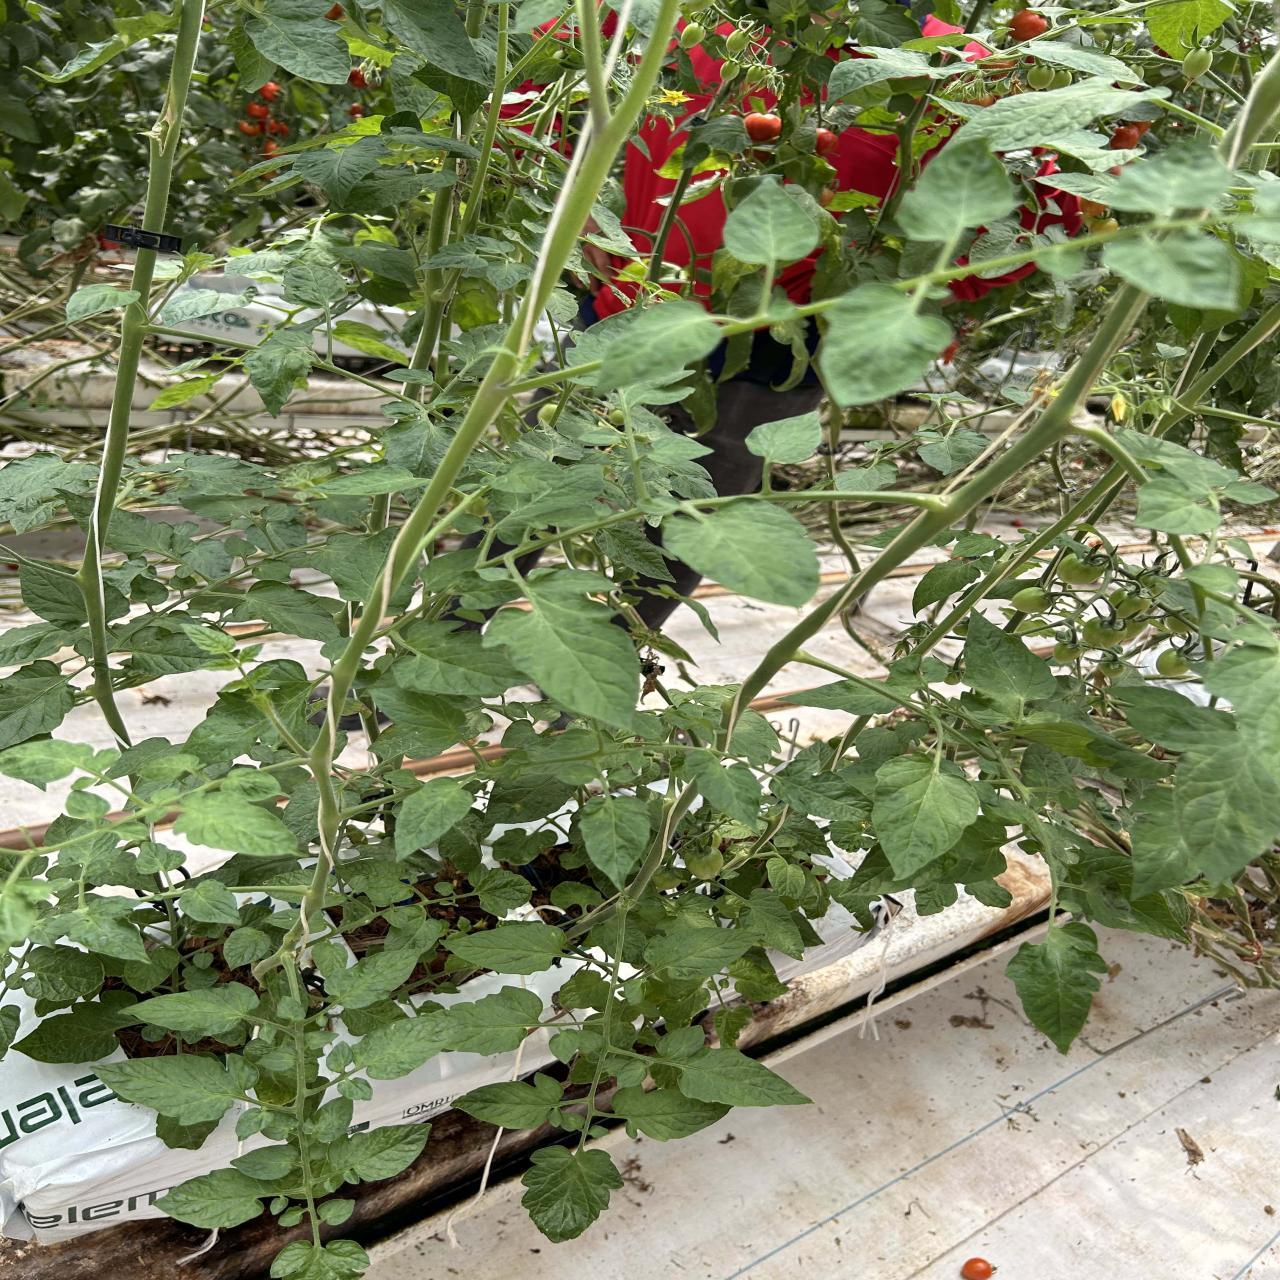Hoja: (1114, 627, 1280, 890), (482, 570, 640, 726), (661, 497, 819, 607), (818, 282, 952, 407), (1119, 430, 1276, 535), (946, 79, 1158, 151), (872, 751, 980, 879), (896, 134, 1020, 241), (1006, 921, 1108, 1053), (581, 300, 721, 392), (91, 1055, 258, 1124), (1103, 229, 1240, 311), (522, 1145, 624, 1242), (1107, 142, 1233, 215), (964, 606, 1057, 701), (723, 176, 819, 268), (424, 986, 542, 1057), (1129, 784, 1199, 903), (828, 46, 978, 101), (173, 791, 299, 856), (321, 1124, 430, 1194), (45, 896, 155, 965), (352, 1016, 471, 1080), (452, 1073, 584, 1130), (154, 1167, 279, 1227), (679, 1048, 808, 1105), (122, 982, 259, 1035), (572, 795, 651, 885), (611, 1085, 731, 1141), (771, 758, 874, 822), (394, 777, 472, 859), (443, 921, 565, 974), (11, 946, 104, 1014), (685, 749, 761, 830), (367, 688, 468, 748), (644, 928, 757, 976), (774, 679, 921, 715), (325, 951, 417, 1008), (1019, 40, 1139, 82), (961, 676, 1060, 724), (270, 1240, 369, 1280), (178, 879, 239, 925), (231, 1144, 299, 1180), (223, 926, 272, 969), (307, 1096, 353, 1142), (559, 971, 613, 1009), (885, 655, 948, 687), (655, 1026, 704, 1064), (236, 1108, 273, 1141), (260, 1110, 299, 1139), (550, 1029, 581, 1064), (0, 1005, 20, 1060), (259, 1043, 295, 1073), (326, 1041, 359, 1073), (318, 1199, 355, 1225), (617, 1058, 648, 1087), (275, 995, 306, 1023), (338, 1077, 373, 1099), (576, 1030, 605, 1054), (305, 1029, 335, 1050), (278, 1206, 307, 1226), (624, 979, 645, 1006), (270, 1197, 288, 1216), (259, 1026, 277, 1043)
Pedunculo: (0, 0, 456, 1058), (281, 0, 680, 998), (733, 285, 1150, 762), (720, 212, 1280, 338), (907, 463, 1126, 658), (233, 952, 342, 1250), (1143, 304, 1280, 438), (1218, 46, 1280, 170), (817, 714, 876, 775), (512, 361, 599, 393)
